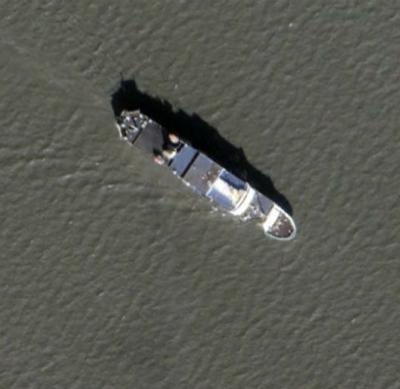Ships: (95, 98, 311, 247)
